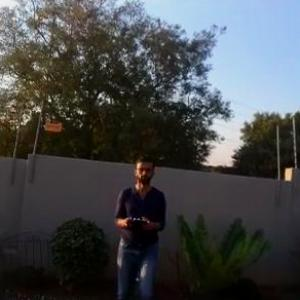follow: (111, 148, 169, 299)
